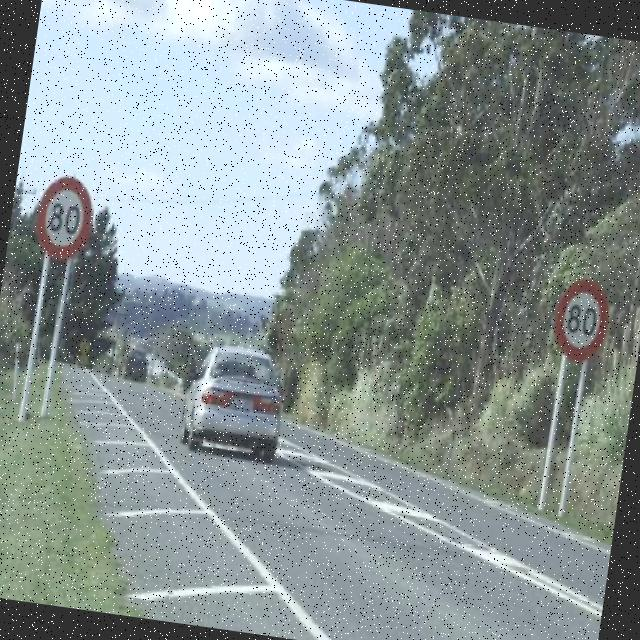Ograniczenie predkosci do 80: (24, 167, 105, 274), (548, 262, 620, 369)
